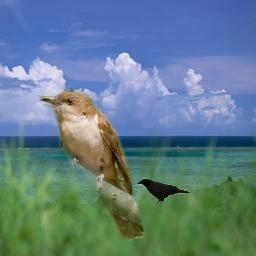Crow: (135, 177, 190, 204)
Cuckoo: (38, 88, 144, 241)
